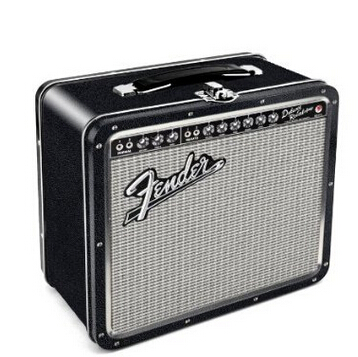shoutibox: (34, 50, 342, 350)
